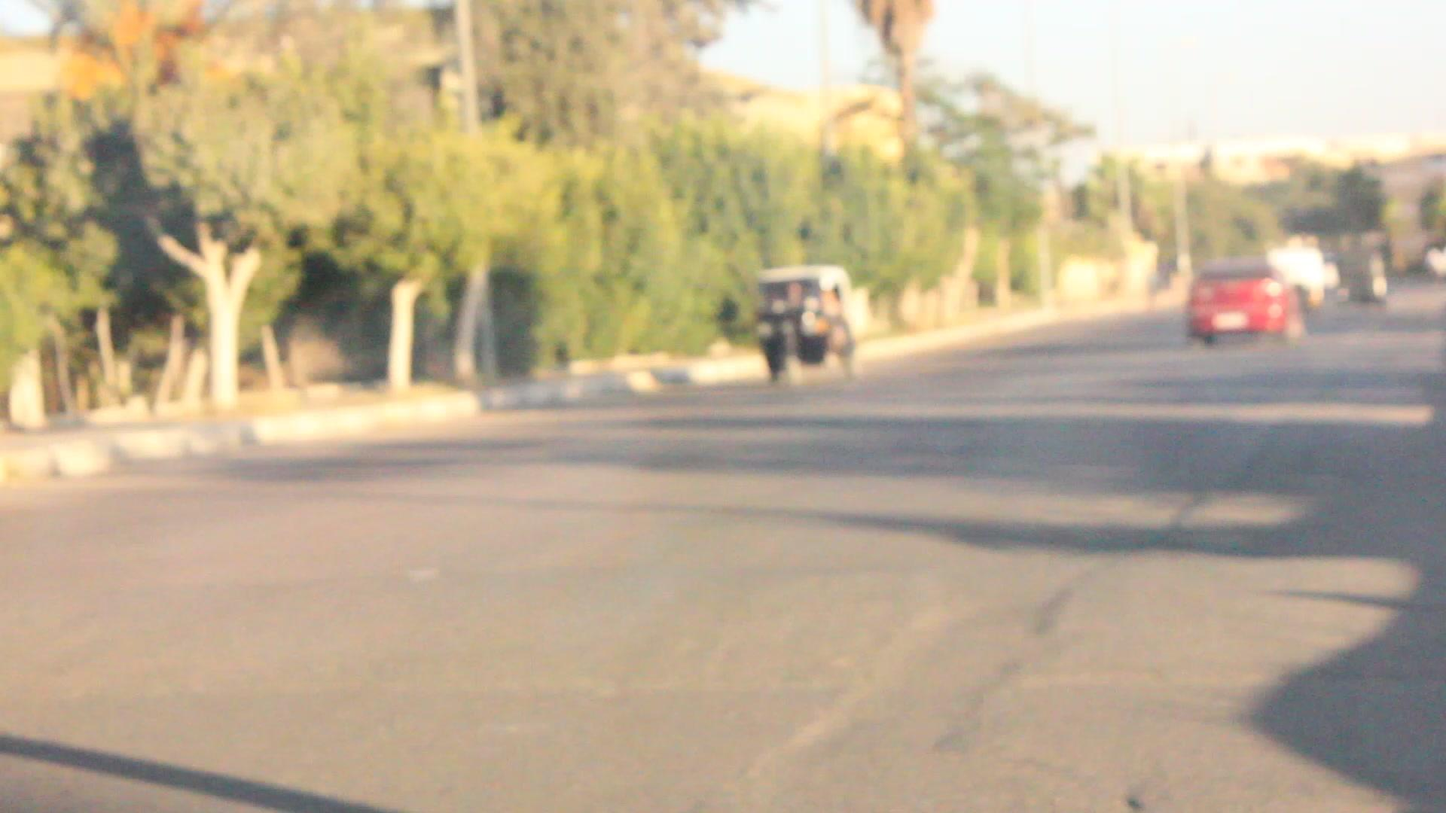Pothole: (715, 572, 1149, 809)
